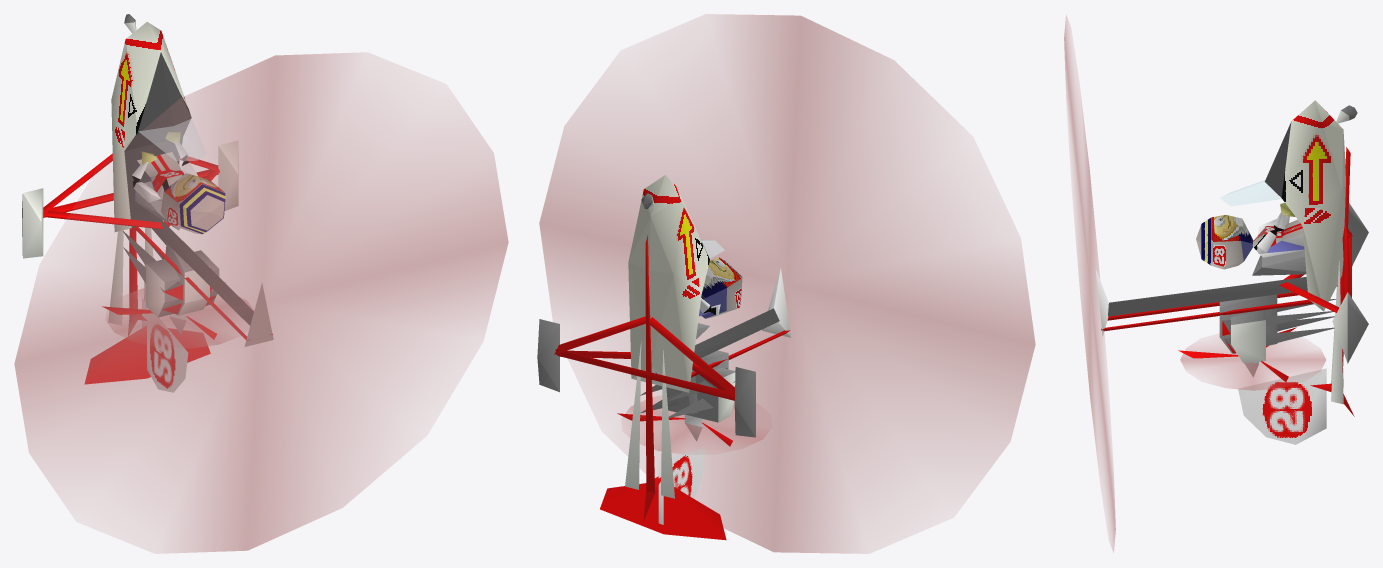
Rendered from gyro-a.glb.
3 views of the same model, side by side, from view 1: azimuth 30°, elevation 25°; view 2: azimuth 150°, elevation 25°; view 3: azimuth 270°, elevation 25° (orthographic). The views are drawn at different scales.
Visible parts, largest first — view 1: gyro-a; view 2: gyro-a; view 3: gyro-a.
Boxes of the visible parts, x1,y1,x2,y2 form: gyro-a: [14, 14, 508, 553]; gyro-a: [537, 14, 1035, 553]; gyro-a: [1064, 15, 1368, 552].
Size of the model in its own units: 387 by 385 by 216.
Materials: 15 (15 with a texture image).
